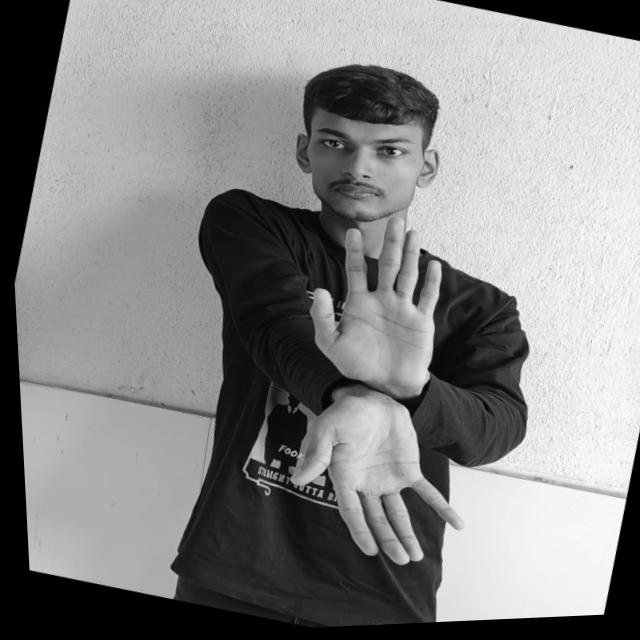Morning: (240, 197, 531, 585)
